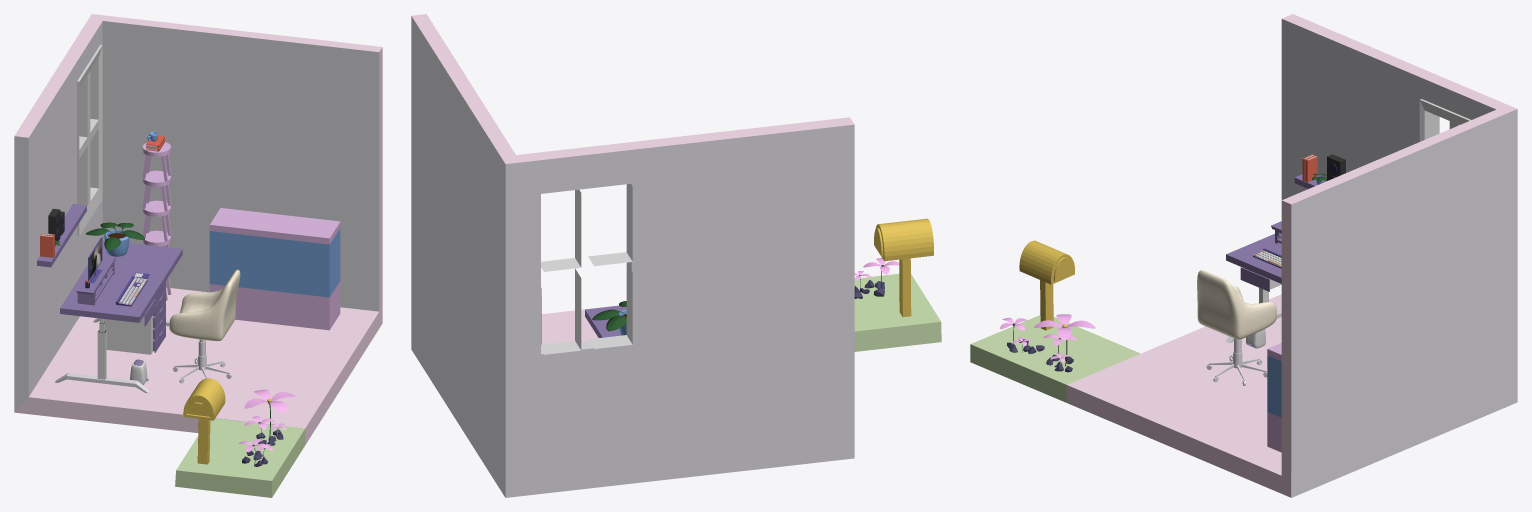
Rendered from Finale.glb.
3 views of the same model, side by side, from view 1: azimuth 30°, elevation 25°; view 2: azimuth 150°, elevation 25°; view 3: azimuth 270°, elevation 25° (orthographic). The views are drawn at different scales.
Parts seen in each view (by area): view 1: Habitacion, water, WaterTank, TablaMesa, Ventana.001, Silla, Mueble, Cylinder, Cajonera, PortaPantalla, Estanteria, SoportePataMesa (+2 smaller); view 2: Habitacion, Ventana.001, Cylinder, TablaMesa; view 3: Habitacion, Silla, Cylinder, TablaMesa, Ventana.001, water, WaterTank.
Boxes of the visible parts, x1,y1,x2,y2 form: Habitacion: [14, 14, 382, 497]; water: [209, 228, 340, 297]; WaterTank: [209, 208, 340, 330]; TablaMesa: [60, 240, 182, 326]; Ventana.001: [77, 45, 102, 235]; Silla: [169, 269, 240, 341]; Mueble: [142, 142, 171, 300]; Cylinder: [183, 378, 225, 464]; Cajonera: [100, 315, 154, 354]; PortaPantalla: [76, 255, 115, 305]; Estanteria: [37, 203, 86, 267]; SoportePataMesa: [55, 318, 169, 393]; Habitacion: [411, 14, 941, 497]; Ventana.001: [541, 184, 632, 354]; Cylinder: [874, 218, 933, 317]; TablaMesa: [585, 305, 626, 337]; Habitacion: [970, 14, 1517, 497]; Silla: [1197, 270, 1276, 339]; Cylinder: [1019, 240, 1074, 330]; TablaMesa: [1226, 234, 1281, 291]; Ventana.001: [1419, 99, 1470, 141]; water: [1267, 355, 1281, 417]; WaterTank: [1267, 343, 1281, 452].
Bounding box in the file's own units: 307 × 220 × 372.
32 materials, 1 textured.
